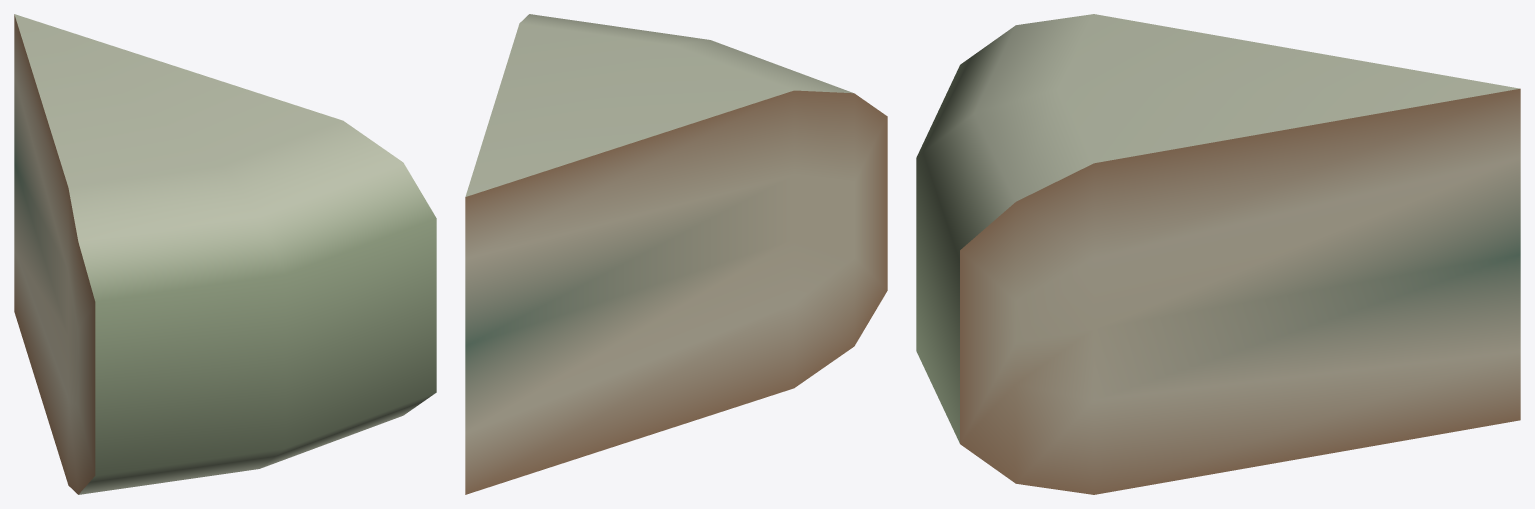
3 views of the same model, side by side, from view 1: azimuth 30°, elevation 25°; view 2: azimuth 150°, elevation 25°; view 3: azimuth 270°, elevation 25° (orthographic). The views are drawn at different scales.
Visible parts, largest first — view 1: alt4.002; view 2: alt4.002; view 3: alt4.002.
Boxes of the visible parts, bbox=[...] form: alt4.002: bbox=[14, 14, 436, 494]; alt4.002: bbox=[465, 14, 887, 494]; alt4.002: bbox=[916, 14, 1520, 494].
Bounding box in the file's own units: 0.3634 × 0.3029 × 0.5.
